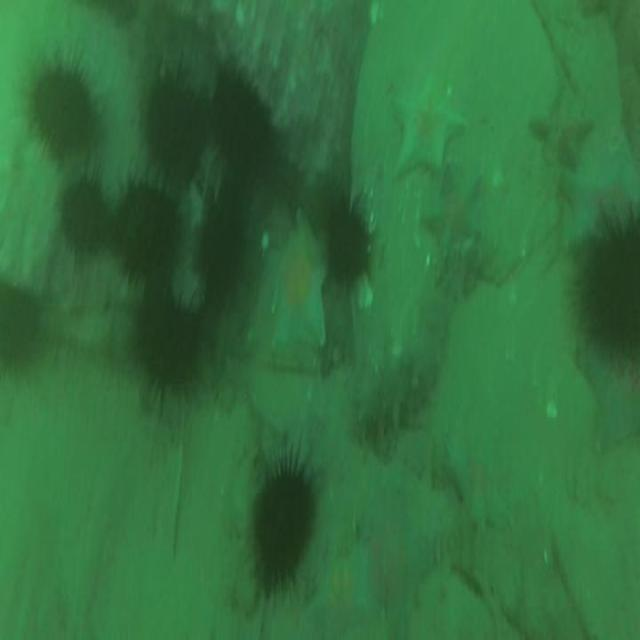echinus: (588, 215, 640, 359), (213, 63, 272, 179), (255, 468, 313, 582), (142, 77, 200, 174), (141, 304, 203, 391), (34, 70, 98, 154), (122, 188, 175, 272), (200, 210, 242, 300), (58, 182, 108, 253), (0, 288, 40, 374), (331, 210, 367, 278)
holothurian: (352, 330, 440, 450)
starfish: (349, 518, 432, 640), (264, 213, 328, 346), (566, 138, 638, 248), (396, 78, 463, 180), (448, 434, 511, 530), (580, 363, 640, 452), (531, 86, 591, 168), (423, 168, 484, 246)
